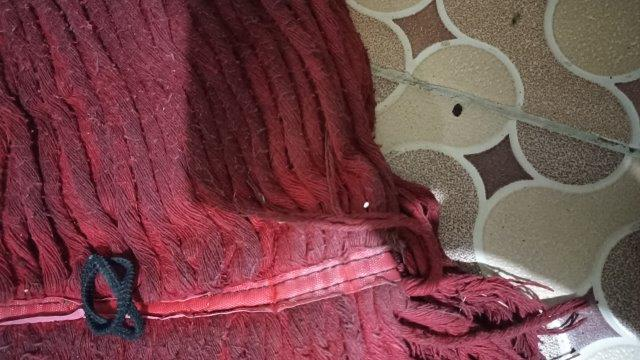karet: (81, 253, 144, 339)
